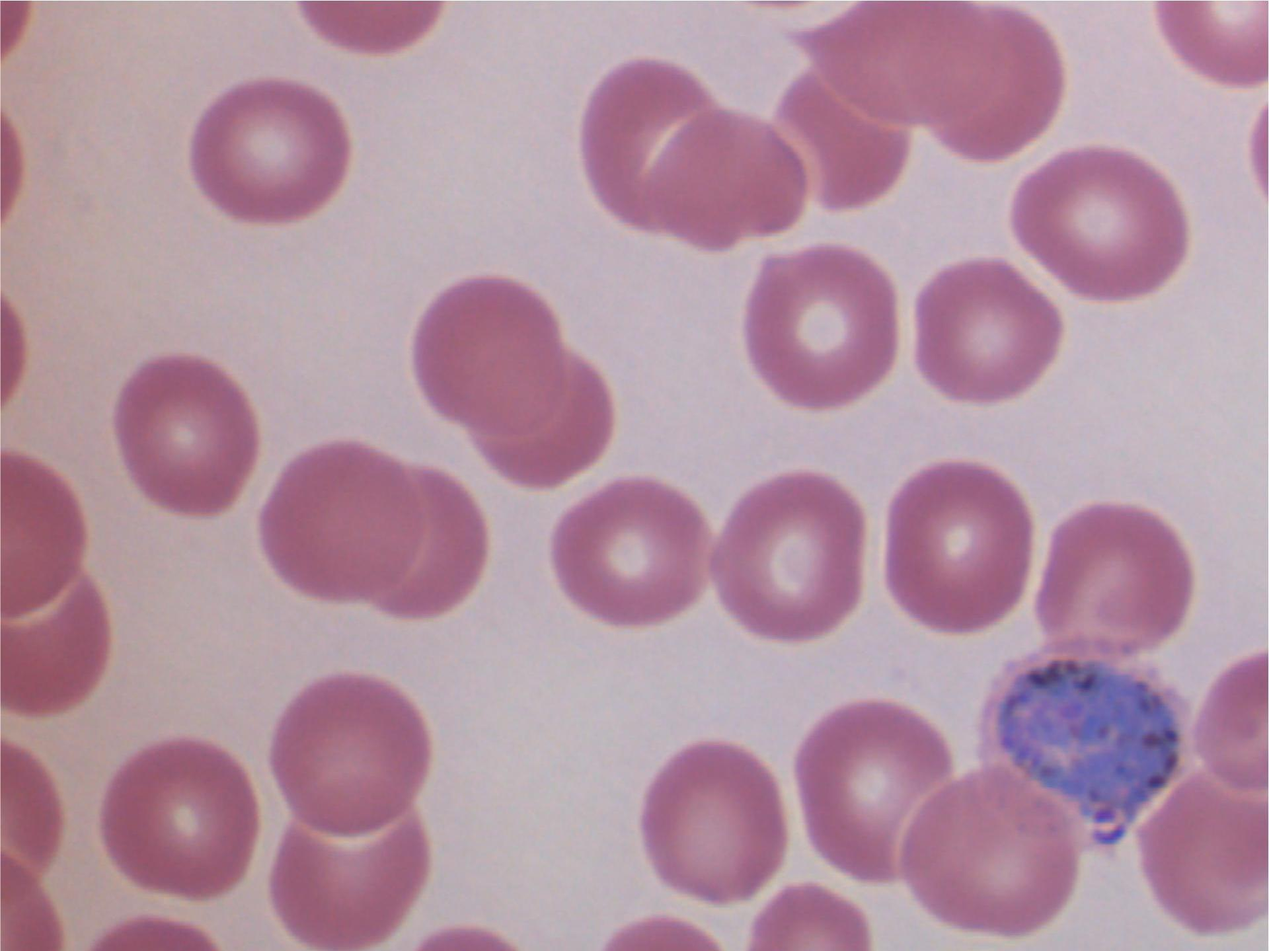Infected: (974, 644, 1204, 846)
Uninfected: (581, 57, 789, 249), (897, 770, 1076, 932), (1010, 144, 1187, 301), (796, 702, 948, 881), (883, 458, 1039, 632), (269, 674, 430, 835), (745, 247, 903, 409), (100, 740, 261, 897), (714, 473, 868, 637), (907, 6, 1064, 163), (412, 278, 565, 439), (187, 75, 350, 223), (112, 352, 261, 510), (551, 476, 708, 625), (639, 742, 784, 902), (268, 450, 423, 598), (1036, 502, 1192, 647), (912, 255, 1062, 402), (268, 813, 427, 947), (1137, 773, 1263, 931), (776, 71, 911, 212), (797, 5, 933, 125), (376, 471, 487, 617), (4, 574, 111, 715), (5, 456, 90, 614), (507, 363, 615, 484), (1196, 651, 1267, 789), (1161, 4, 1265, 81)
